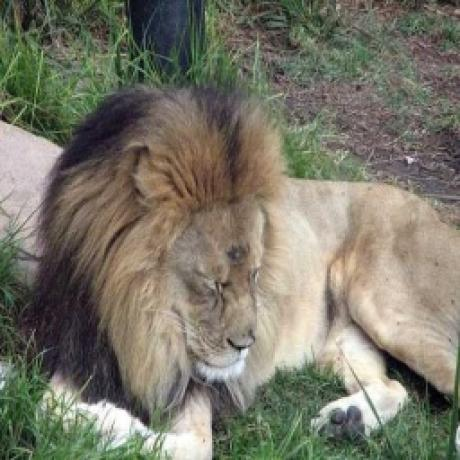Lion: (37, 82, 460, 460)
